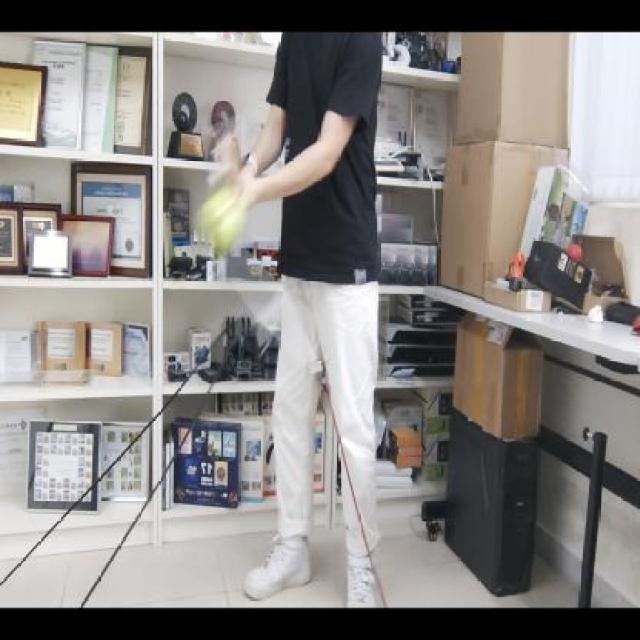baseball: (193, 182, 247, 249)
